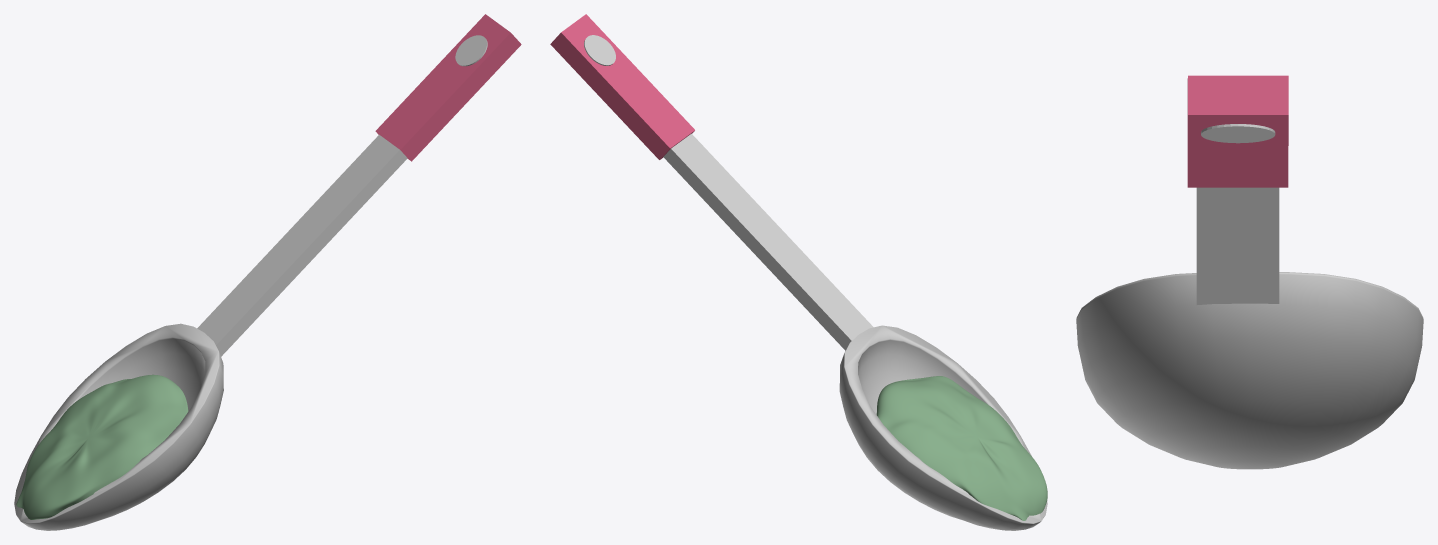
The model's file is kayaspoon.fbx.
3 views of the same model, side by side, from view 1: azimuth 30°, elevation 25°; view 2: azimuth 150°, elevation 25°; view 3: azimuth 270°, elevation 25° (orthographic). The views are drawn at different scales.
Visible parts, largest first — view 1: Sphere.048, Sphere.003, Cube.014, Cylinder.024; view 2: Sphere.048, Sphere.003, Cube.014, Cylinder.024; view 3: Sphere.048, Cube.014, Cylinder.024.
Boxes of the visible parts, x1,y1,x2,y2 form: Sphere.048: (14, 134, 407, 530); Sphere.003: (16, 374, 188, 519); Cube.014: (375, 14, 521, 161); Cylinder.024: (455, 35, 487, 66); Sphere.048: (663, 133, 1047, 530); Sphere.003: (876, 376, 1047, 524); Cube.014: (550, 14, 694, 159); Cylinder.024: (584, 35, 615, 65); Sphere.048: (1076, 187, 1423, 469); Cube.014: (1187, 75, 1288, 187); Cylinder.024: (1201, 124, 1275, 143).
Size of the model in its own units: 112 by 87.23 by 34.9.
